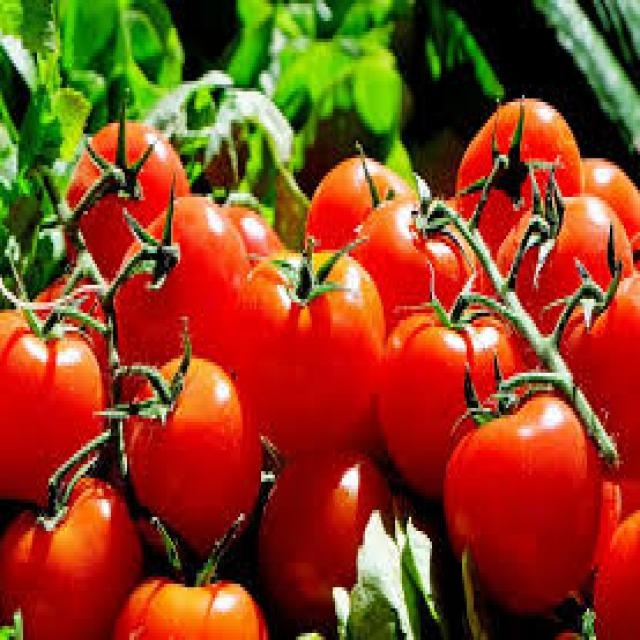Tomato: (441, 367, 624, 620), (234, 217, 396, 467), (381, 288, 534, 497), (115, 348, 264, 560), (117, 192, 277, 369), (0, 285, 116, 510), (446, 88, 596, 262), (0, 457, 139, 640), (252, 445, 390, 618), (352, 186, 490, 356), (495, 188, 628, 352), (71, 109, 195, 275), (548, 241, 640, 440), (304, 142, 414, 291), (107, 561, 266, 640)
